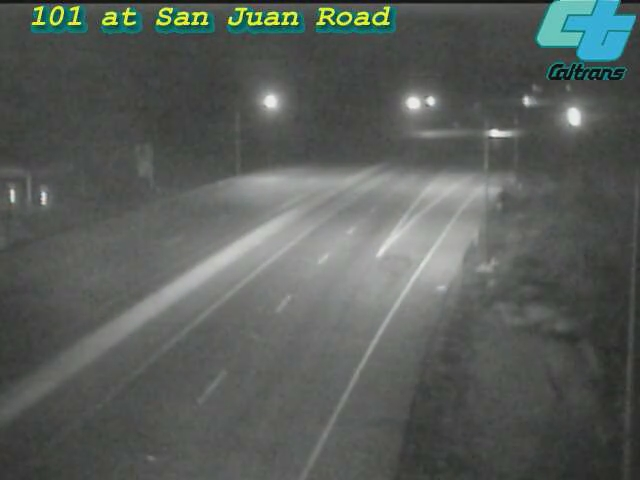vehicle: (472, 108, 522, 158), (547, 91, 597, 141)
